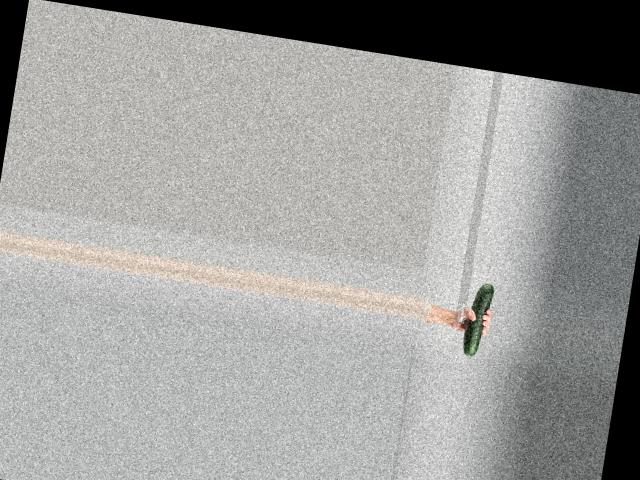cucumber: (461, 280, 495, 356)
